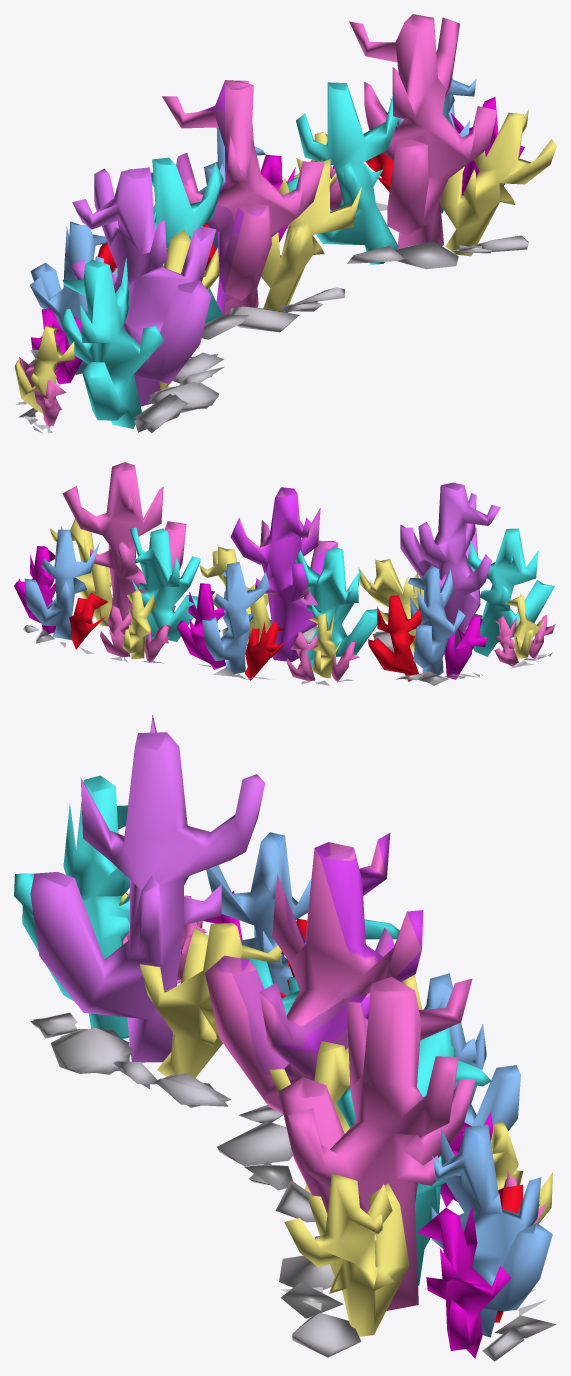
Rendered from arrecife.fbx.
3 renders of one model, top to bottom at view 1: azimuth 30°, elevation 25°; view 2: azimuth 150°, elevation 25°; view 3: azimuth 270°, elevation 25°, orthographic. The views are drawn at different scales.
Visible parts, largest first — view 1: Cube.026; view 2: Cube.026; view 3: Cube.026.
Boxes of the visible parts, x1=… form: Cube.026: x1=14, y1=14, x2=556, y2=433; Cube.026: x1=14, y1=462, x2=555, y2=685; Cube.026: x1=14, y1=715, x2=556, y2=1361.
Bounding box in the file's own units: 3315 × 1220 × 1836.
Materials: 10 (10 with a texture image).
